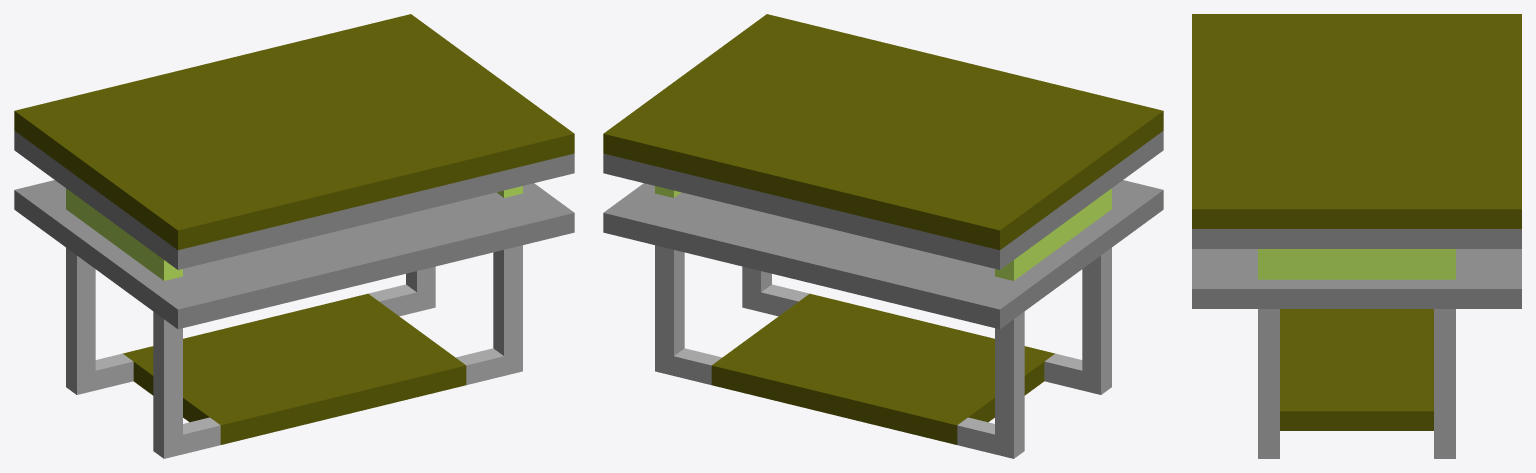
Rendered from Conference End Table.obj.
The picture shows the model from 3 angles, left to right: view 1: azimuth 30°, elevation 25°; view 2: azimuth 150°, elevation 25°; view 3: azimuth 270°, elevation 25°; orthographic projection.
Bounding box in the file's own units: 21 × 13 × 15.
Materials: 1 (1 with a texture image).
